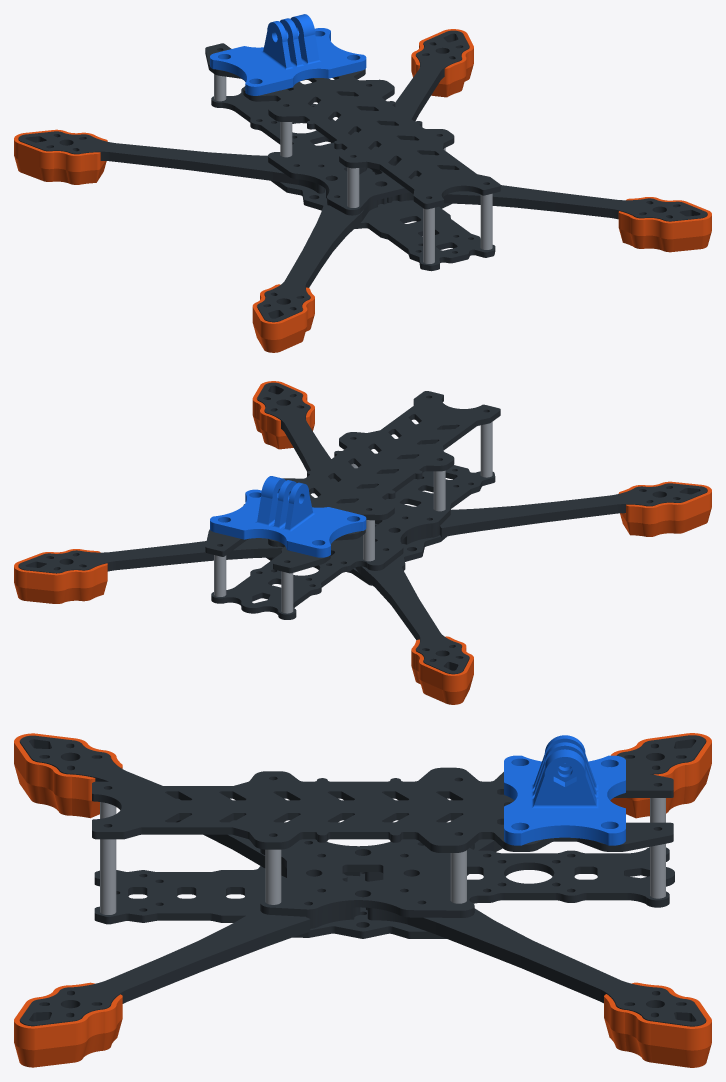
File: tigerbee-with-gopro-holder.glb
The picture shows the model from 3 angles, top to bottom: view 1: azimuth 30°, elevation 25°; view 2: azimuth 150°, elevation 25°; view 3: azimuth 270°, elevation 25°; orthographic projection. The views are drawn at different scales.
Parts seen in each view (by area): view 1: top-plate, top-plate-gopro-holder, camera-plate, front-left-arm, rear-plate, rear-right-arm, rear-left-arm, rear-right-protector, front-left-protector, front-right-arm, rear-left-protector, front-right-protector (+2 smaller); view 2: top-plate, camera-plate, top-plate-gopro-holder, rear-left-arm, front-right-arm, front-left-arm, front-right-protector, rear-plate, rear-left-protector, rear-right-arm, front-left-protector, rear-right-protector (+4 smaller); view 3: top-plate, camera-plate, top-plate-gopro-holder, rear-plate, rear-right-arm, front-right-arm, rear-right-protector, front-right-protector, rear-left-arm, rear-left-protector, front-left-protector, front-left-arm (+4 smaller).
Boxes of the visible parts, <box> form: top-plate: <box>205,43,500,209</box>; top-plate-gopro-holder: <box>210,14,366,95</box>; camera-plate: <box>211,87,418,215</box>; front-left-arm: <box>18,131,325,193</box>; rear-plate: <box>271,168,495,271</box>; rear-right-arm: <box>387,185,707,221</box>; rear-left-arm: <box>257,189,387,322</box>; rear-right-protector: <box>618,197,711,252</box>; front-left-protector: <box>14,129,107,184</box>; front-right-arm: <box>359,30,469,174</box>; rear-left-protector: <box>252,284,314,352</box>; front-right-protector: <box>411,29,473,97</box>; top-plate: <box>205,391,500,573</box>; camera-plate: <box>211,501,450,619</box>; top-plate-gopro-holder: <box>210,476,366,557</box>; rear-left-arm: <box>375,483,707,544</box>; front-right-arm: <box>18,538,283,573</box>; front-left-arm: <box>355,541,469,674</box>; front-right-protector: <box>14,549,107,603</box>; rear-plate: <box>266,465,495,585</box>; rear-left-protector: <box>618,481,711,536</box>; rear-right-arm: <box>257,382,337,483</box>; front-left-protector: <box>411,636,473,704</box>; rear-right-protector: <box>252,381,314,449</box>; top-plate: <box>92,767,673,852</box>; camera-plate: <box>260,839,674,917</box>; top-plate-gopro-holder: <box>504,735,625,845</box>; rear-plate: <box>94,866,468,938</box>; rear-right-arm: <box>20,907,360,1026</box>; front-right-arm: <box>366,907,705,1026</box>; rear-right-protector: <box>14,982,122,1067</box>; front-right-protector: <box>604,982,711,1067</box>; rear-left-arm: <box>20,735,360,881</box>; rear-left-protector: <box>14,733,122,818</box>; front-left-protector: <box>610,733,711,818</box>; front-left-arm: <box>365,735,705,881</box>.
Bounding box in the file's own units: 0.2581 × 0.0725 × 0.2574.
